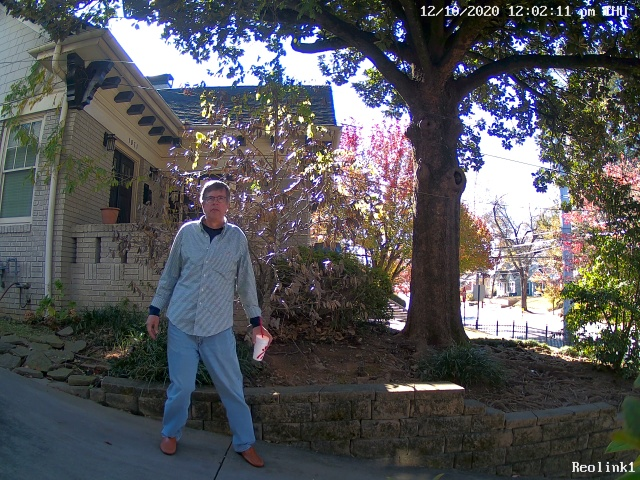person: (131, 172, 279, 476)
